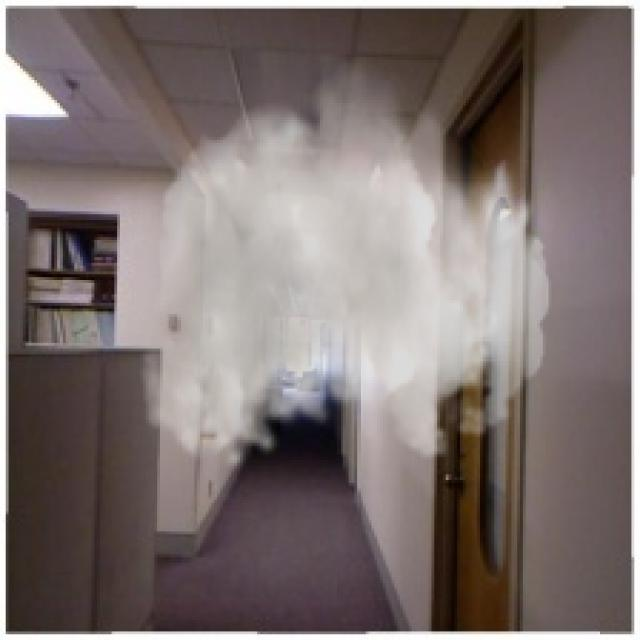smoke: (140, 51, 551, 472)
